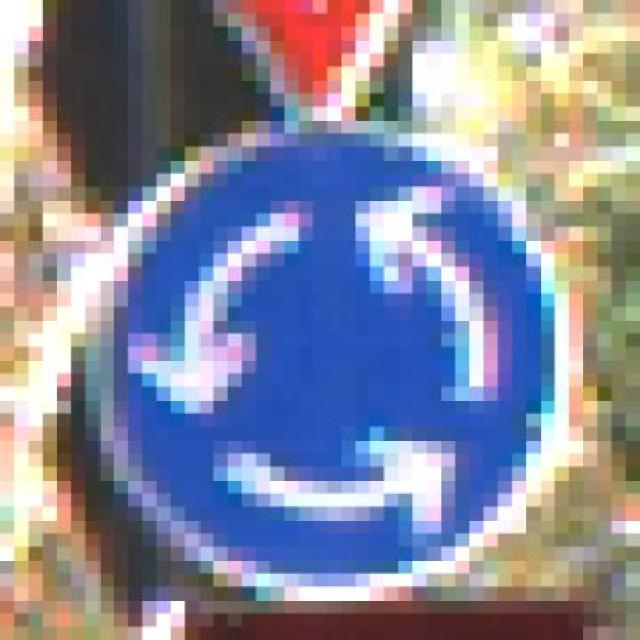Round-About: (42, 107, 598, 627)
